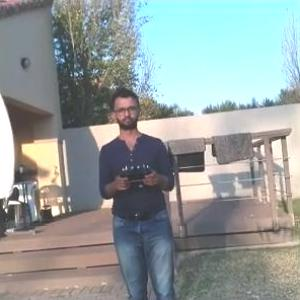follow: (96, 82, 178, 299)
